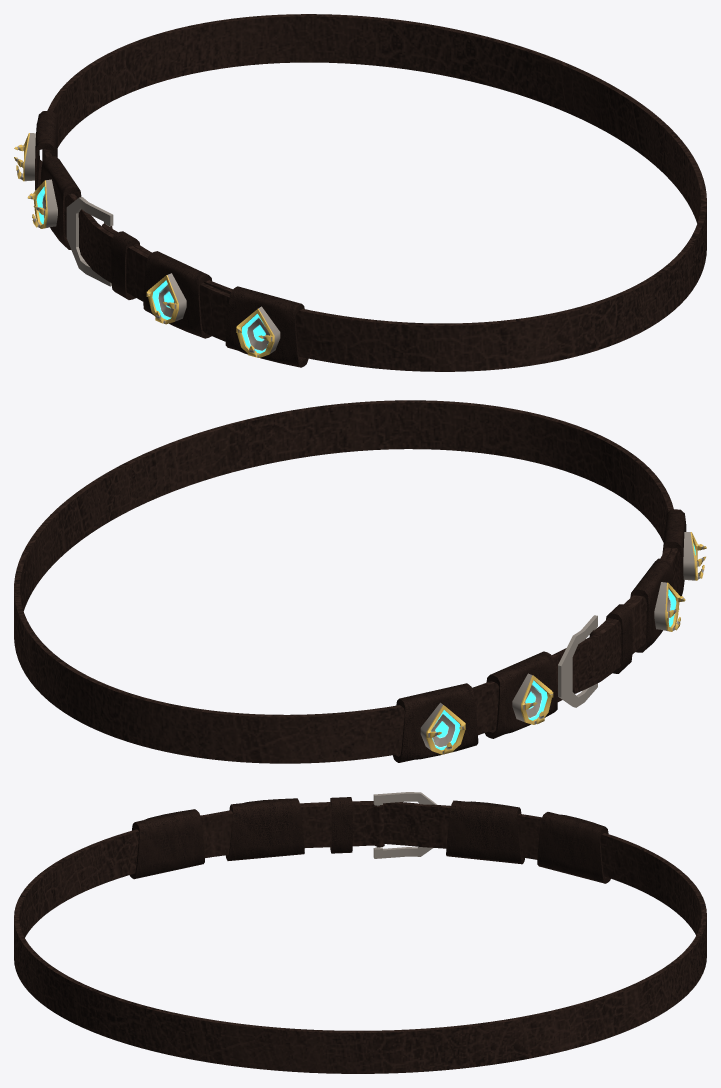
The model's file is wizard belt.fbx.
3 views of the same model, one above another, from view 1: azimuth 30°, elevation 25°; view 2: azimuth 150°, elevation 25°; view 3: azimuth 270°, elevation 25° (orthographic). The views are drawn at different scales.
Parts seen in each view (by area): view 1: belt, belt addon.001, belt addon, gem socket.001, belt addon.002, gem socket, belt buckle, belt addon small, belt addon.003, gem socket.002, gem socket.003; view 2: belt, belt addon.003, belt addon.002, gem socket.003, belt addon, gem socket.002, belt buckle, gem socket, belt addon.001, belt addon small, gem socket.001; view 3: belt, belt addon, belt addon.002, belt addon.001, belt addon.003, belt addon small, belt buckle.
Part boxes in pixels (x1,y1,x2,y2): belt: (42,14,706,371); belt addon.001: (225,286,308,367); belt addon: (143,251,211,338); gem socket.001: (236,306,280,357); belt addon.002: (40,156,81,249); gem socket: (146,273,186,324); belt buckle: (66,197,113,286); belt addon small: (111,231,139,299); belt addon.003: (35,111,57,190); gem socket.002: (27,179,57,228); gem socket.003: (14,133,35,181); belt: (14,400,680,763); belt addon.003: (393,683,478,762); belt addon.002: (485,651,557,738); gem socket.003: (420,702,465,754); belt addon: (630,558,673,652); gem socket.002: (512,673,553,724); belt buckle: (558,615,597,707); gem socket: (654,582,685,631); belt addon.001: (662,509,686,596); belt addon small: (606,604,632,673); gem socket.001: (683,532,706,580); belt: (14,801,706,1073); belt addon: (225,798,304,860); belt addon.002: (446,800,524,864); belt addon.001: (129,809,204,879); belt addon.003: (537,812,610,883); belt addon small: (330,797,352,853); belt buckle: (373,792,437,858).
Size of the model in its own units: 0.9026 by 0.1117 by 1.11.
